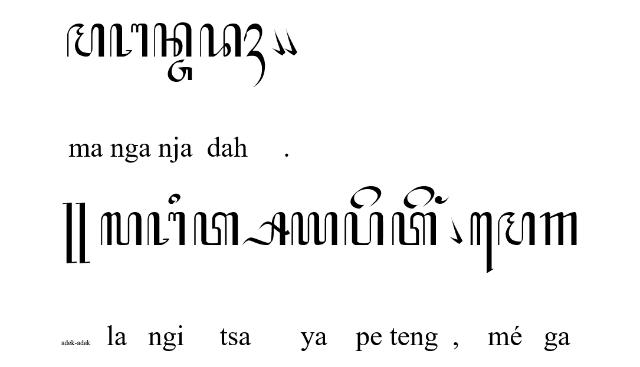_h1: (244, 22, 266, 88)
_j: (168, 59, 192, 82)
_s: (242, 211, 290, 245)
adeg2: (62, 202, 90, 264)
d: (200, 23, 242, 57)
e: (351, 186, 382, 209), (404, 186, 434, 209)
e1: (470, 212, 494, 274)
g: (539, 212, 577, 246)
i: (168, 192, 180, 203)
kom: (272, 28, 286, 56), (284, 28, 298, 56), (449, 217, 463, 244)
l: (100, 212, 142, 246)
m: (67, 23, 105, 57), (497, 212, 535, 246)
n: (154, 23, 192, 57)
ng: (435, 196, 449, 204)
nga: (110, 23, 148, 57), (148, 212, 185, 246)
p: (344, 212, 384, 246)
t: (194, 212, 238, 246), (392, 212, 436, 246)
y: (291, 212, 337, 246)
